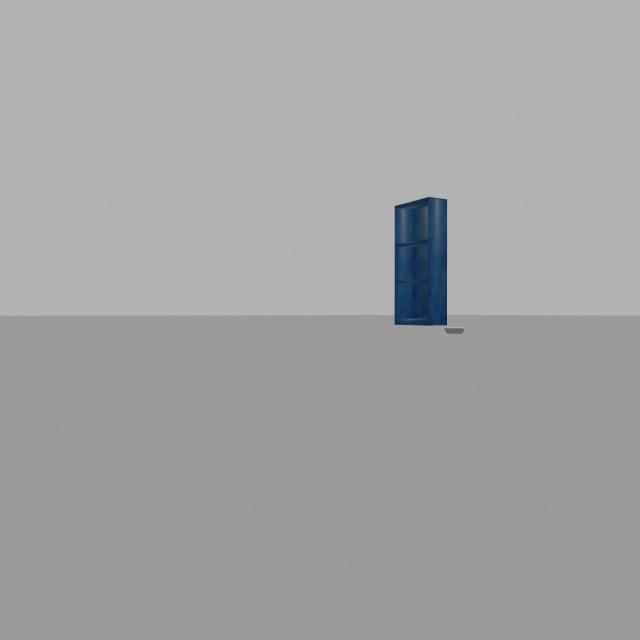bowl: (443, 319, 468, 344)
shelf: (381, 190, 456, 328)
